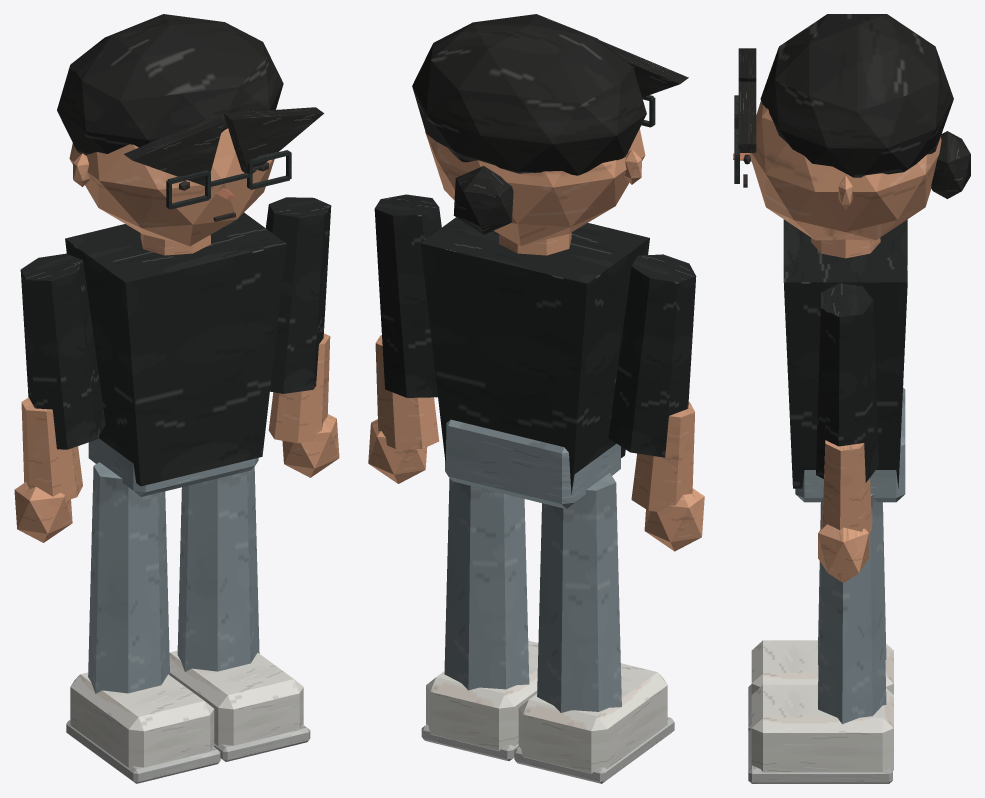
Rendered from person_06.glb.
3 renders of one model, left to right at view 1: azimuth 30°, elevation 25°; view 2: azimuth 150°, elevation 25°; view 3: azimuth 270°, elevation 25°, orthographic. The views are drawn at different scales.
Parts seen in each view (by area): view 1: GEO_Torso, GEO_Hair_Cap, GEO_PantsLeg_L, GEO_PantsLeg_R, GEO_UpperArm_L, GEO_Head, GEO_Shoe_L, GEO_UpperArm_R, GEO_Shoe_R, GEO_Forearm_L, GEO_Hair_Fringe_R, GEO_Hair_Fringe_L (+7 smaller); view 2: GEO_Torso, GEO_Hair_Cap, GEO_PantsLeg_L, GEO_PantsLeg_R, GEO_UpperArm_L, GEO_UpperArm_R, GEO_Shoe_L, GEO_Waist, GEO_Head, GEO_Shoe_R, GEO_Forearm_L, GEO_Forearm_R (+7 smaller); view 3: GEO_Hair_Cap, GEO_Torso, GEO_Head, GEO_PantsLeg_R, GEO_Shoe_R, GEO_UpperArm_R, GEO_Forearm_R, GEO_Shoe_L, GEO_Hand_R, GEO_Waist, GEO_Sole_R, GEO_Hair_Tie (+4 smaller).
Boxes of the visible parts, x1,y1,x2,y2 form: GEO_Torso: (65, 212, 286, 486); GEO_Hair_Cap: (57, 14, 283, 155); GEO_PantsLeg_L: (88, 462, 169, 693); GEO_PantsLeg_R: (177, 467, 259, 671); GEO_UpperArm_L: (20, 253, 105, 449); GEO_Head: (69, 128, 274, 246); GEO_Shoe_L: (70, 672, 214, 767); GEO_UpperArm_R: (266, 197, 331, 393); GEO_Shoe_R: (169, 650, 303, 745); GEO_Forearm_L: (21, 397, 82, 500); GEO_Hair_Fringe_R: (223, 107, 323, 173); GEO_Hair_Fringe_L: (124, 115, 224, 186); GEO_Torso: (420, 217, 649, 494); GEO_Hair_Cap: (412, 14, 646, 175); GEO_PantsLeg_L: (537, 473, 621, 712); GEO_PantsLeg_R: (444, 478, 529, 690); GEO_UpperArm_L: (608, 254, 696, 457); GEO_UpperArm_R: (374, 194, 441, 397); GEO_Shoe_L: (518, 663, 667, 773); GEO_Waist: (445, 419, 620, 508); GEO_Head: (425, 128, 645, 245); GEO_Shoe_R: (426, 640, 538, 751); GEO_Forearm_L: (631, 402, 694, 511); GEO_Forearm_R: (375, 335, 439, 448); GEO_Hair_Cap: (760, 14, 953, 177); GEO_Torso: (783, 219, 907, 488); GEO_Head: (749, 101, 941, 240); GEO_PantsLeg_R: (818, 494, 886, 724); GEO_Shoe_R: (751, 684, 893, 772); GEO_UpperArm_R: (816, 283, 878, 482); GEO_Forearm_R: (822, 440, 871, 532); GEO_Shoe_L: (751, 640, 893, 694); GEO_Hand_R: (818, 524, 868, 582); GEO_Waist: (795, 387, 905, 502); GEO_Sole_R: (748, 729, 892, 783); GEO_Hair_Tie: (931, 131, 970, 198).
Bounding box in the file's own units: 0.7974 × 1.67 × 0.5024.
Materials: 1 (1 with a texture image).
